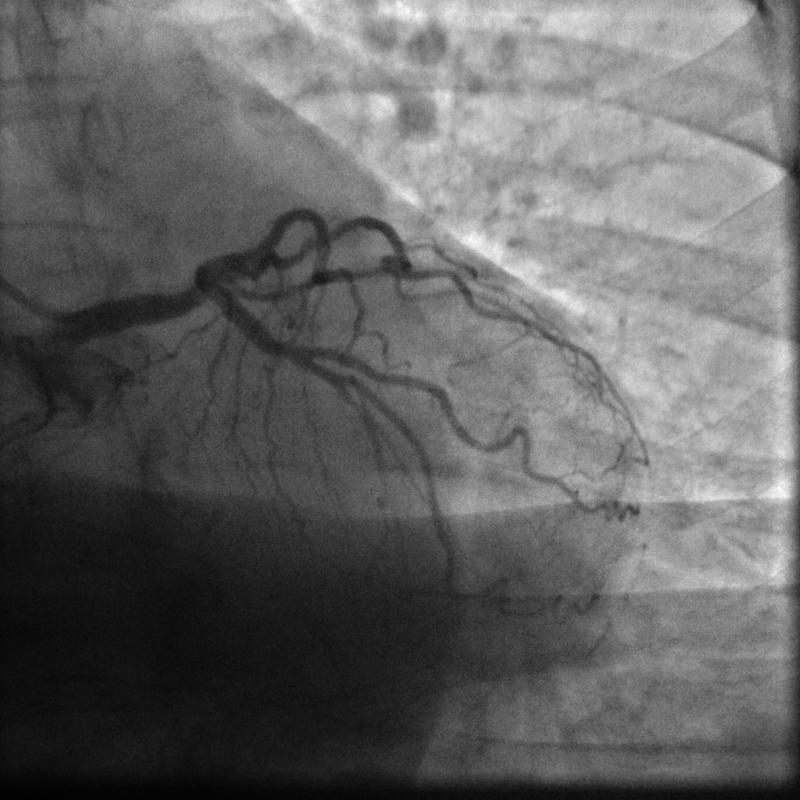Stenosis: (271, 328, 299, 379)
